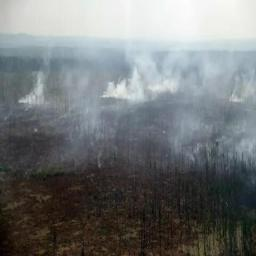Low smoke: (13, 0, 255, 192)
